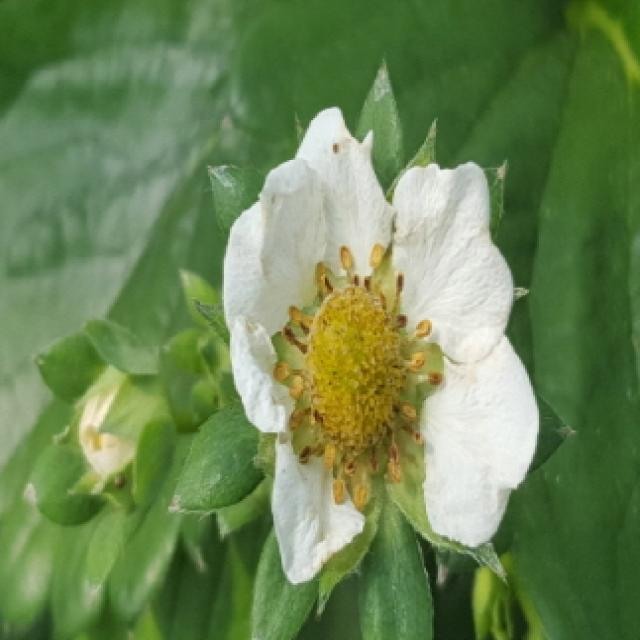Blossom Blight: (265, 238, 453, 514)
